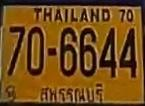0: (26, 26, 43, 75)
4: (119, 27, 136, 77), (99, 27, 115, 77)
6: (59, 27, 76, 76), (80, 27, 96, 76)
7: (8, 25, 24, 74)
SPB: (37, 83, 107, 106)
